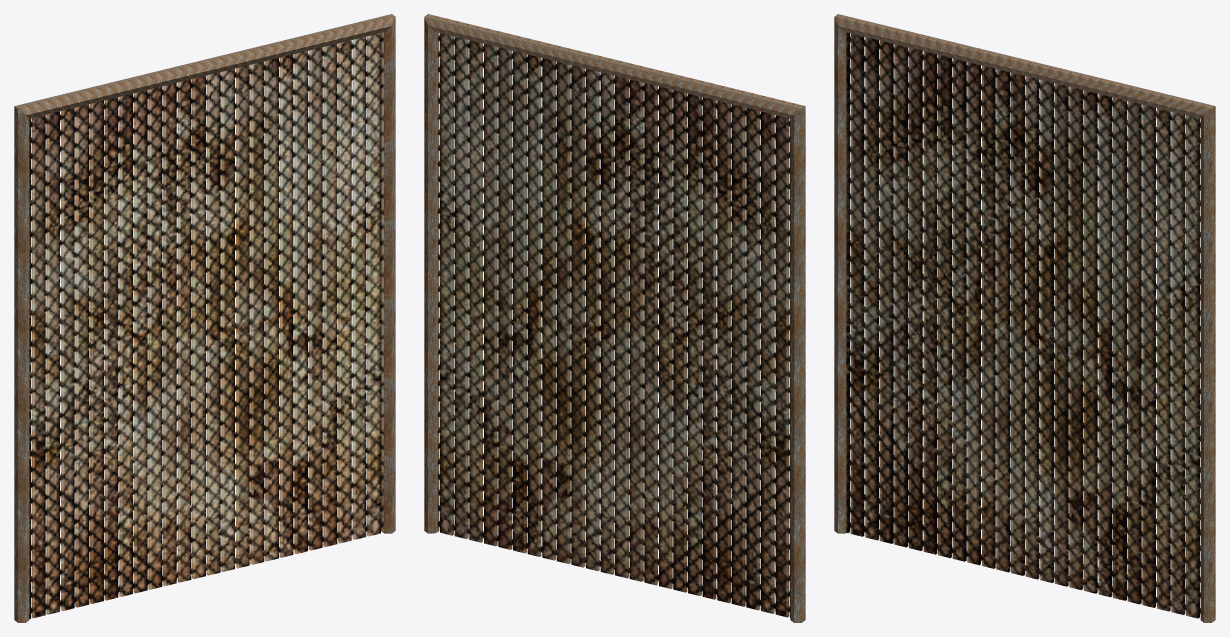
The model's file is fence2m.fbx.
3 views of the same model, side by side, from view 1: azimuth 30°, elevation 25°; view 2: azimuth 150°, elevation 25°; view 3: azimuth 330°, elevation 25° (orthographic).
Parts seen in each view (by area): view 1: mesh_0, mesh_1; view 2: mesh_0, mesh_1; view 3: mesh_0, mesh_1.
Part boxes in pixels (x1=…): mesh_0: x1=29, y1=32, x2=383, y2=619; mesh_1: x1=14, y1=14, x2=395, y2=622; mesh_0: x1=437, y1=32, x2=790, y2=617; mesh_1: x1=424, y1=14, x2=805, y2=622; mesh_0: x1=846, y1=32, x2=1200, y2=618; mesh_1: x1=834, y1=14, x2=1215, y2=622.
Size of the model in its own units: 200 by 260 by 7.3.
2 materials, 2 textured.
